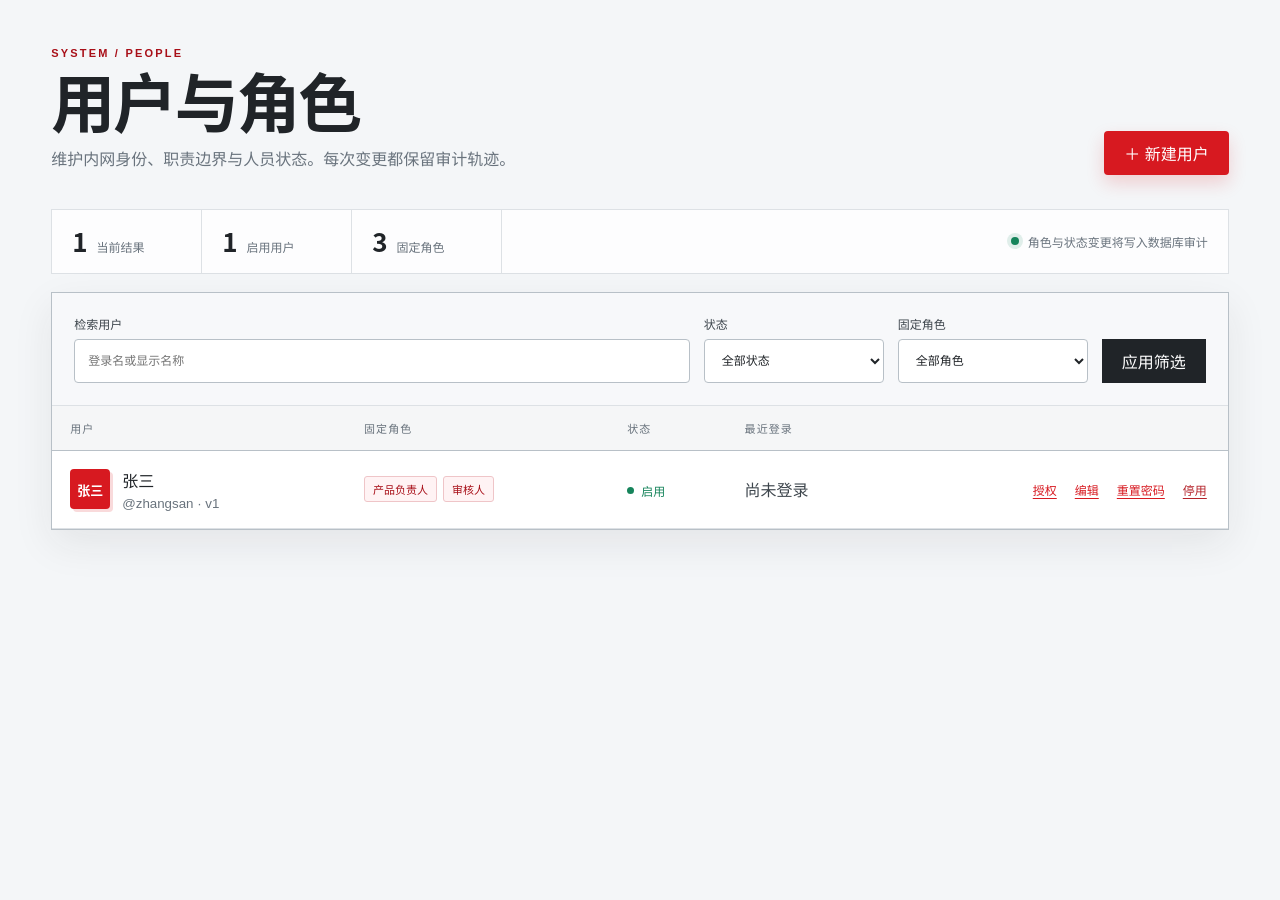
UserAdminPage › requires confirmation before disabling an active user
This screenshot has width=1280, height=900.
Click the button with aria-label "停用张三" at (1195, 489), box [1180,478,1210,500]
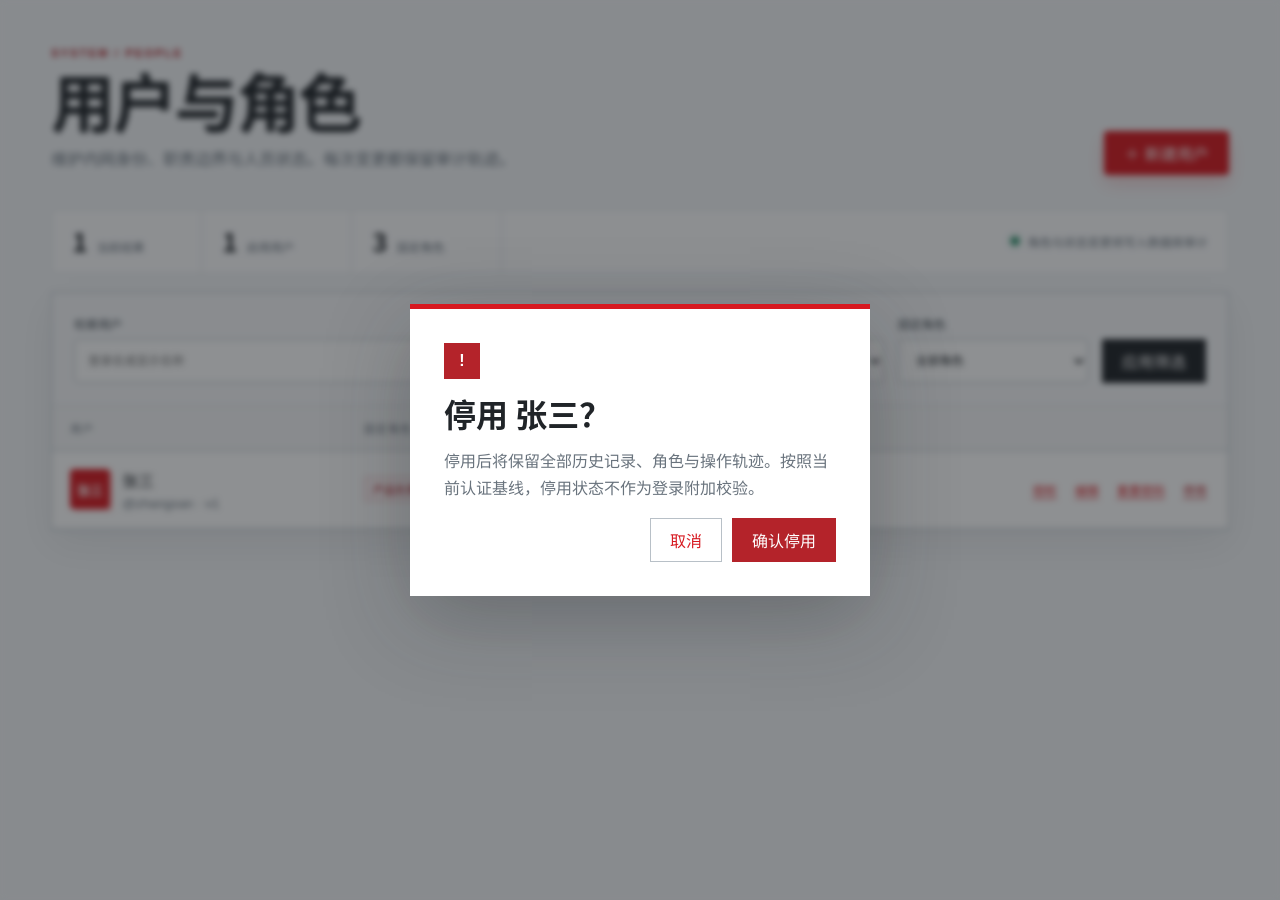
Check: the dialog shows "停用后将保留全部历史记录", box [444,453,828,497]
